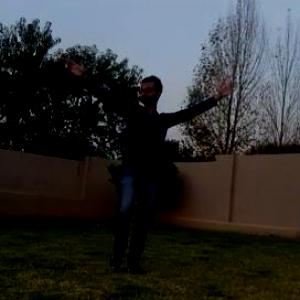takeoff: (51, 41, 235, 287)
